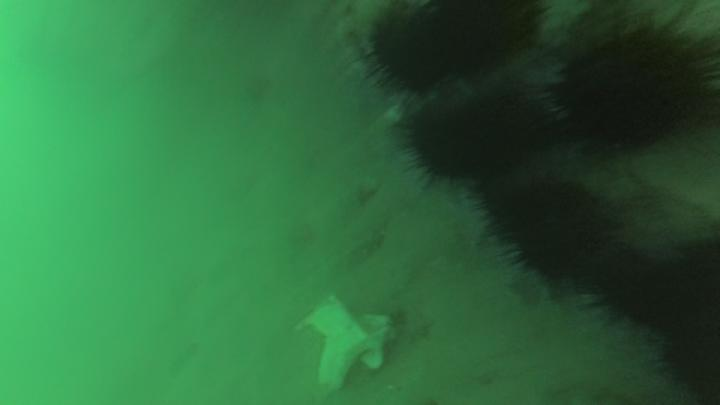echinus: (542, 10, 720, 165), (336, 2, 553, 96), (599, 241, 720, 394), (474, 182, 628, 295), (389, 90, 558, 190)
